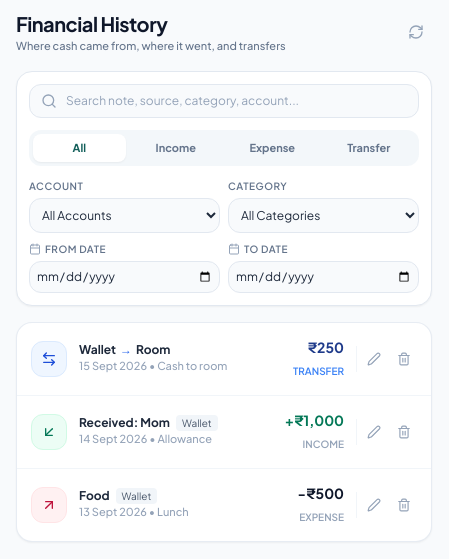
Test: History Page (HistoryPage) › filters history items by search query
Expected: the element with test id "history-list" is shown, [16,322,432,542]
Step 1. Type "Lunch" into the field with placeholder "Search note, source, category, account..." → x=224, y=100, box [29,84,419,118]
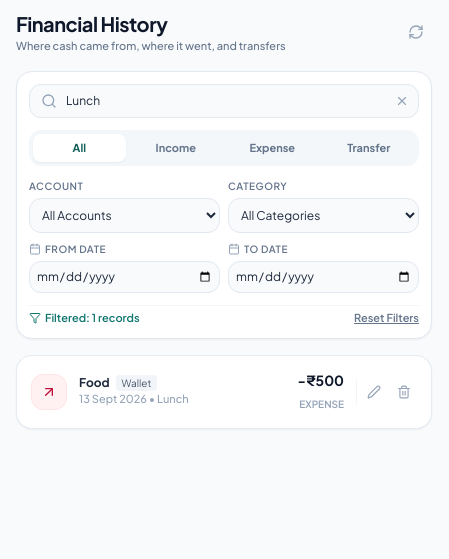
Expected: the text "Food" is shown, [79,375,110,391]
Expected: the text "Received: Mom" is gone
